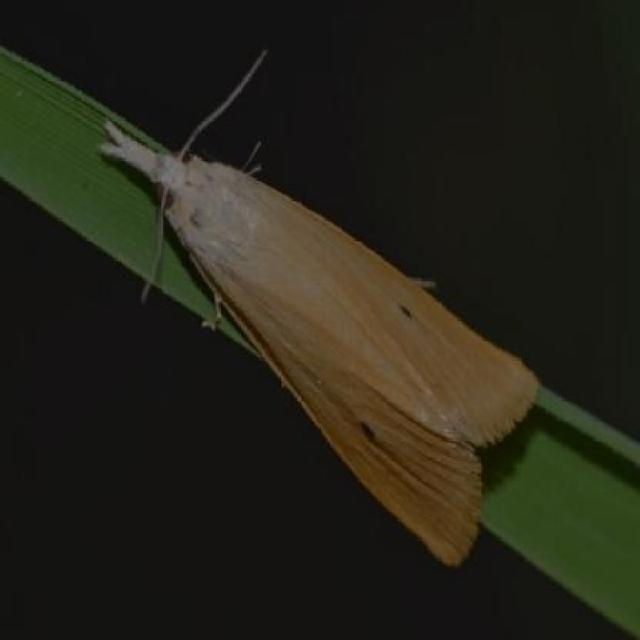stem-borer: (96, 49, 542, 573)
